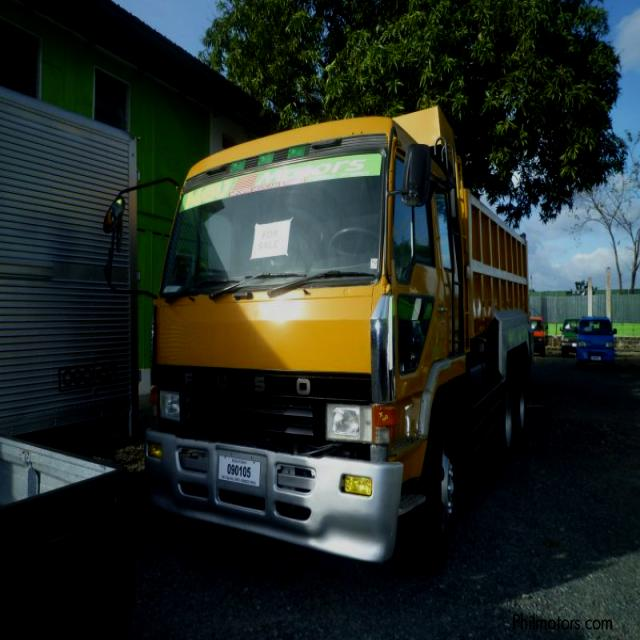truck: (98, 102, 535, 567)
